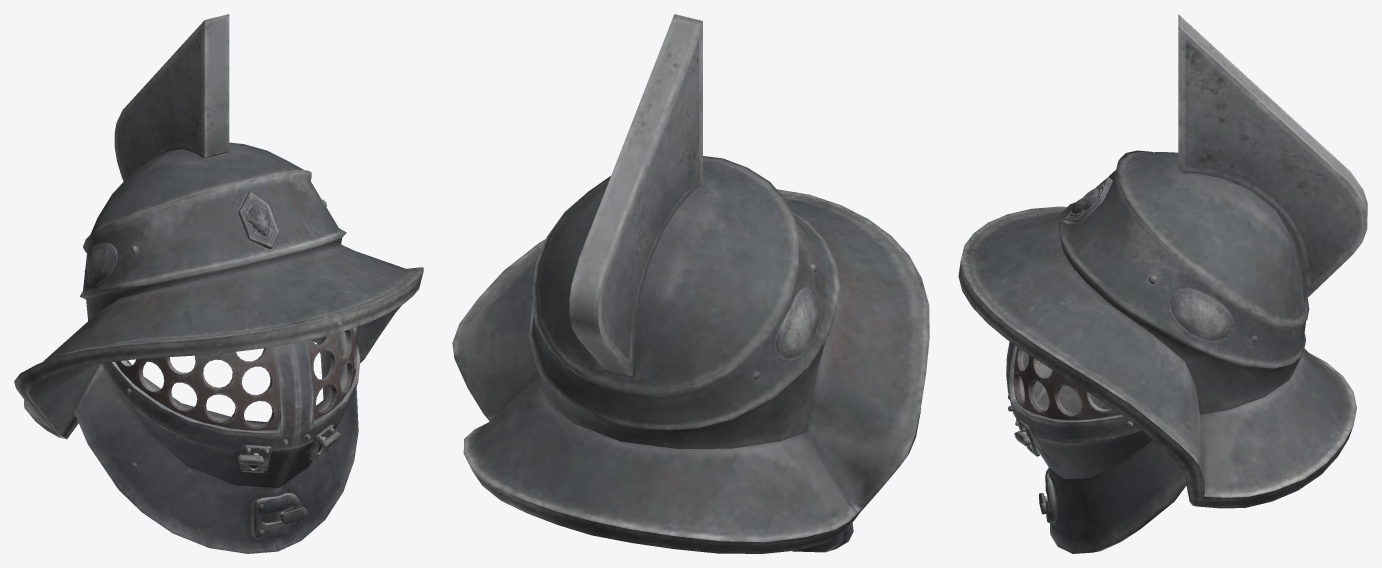
The model's file is gladiator.glb.
The picture shows the model from 3 angles, left to right: view 1: azimuth 30°, elevation 25°; view 2: azimuth 150°, elevation 25°; view 3: azimuth 270°, elevation 25°; orthographic projection. The views are drawn at different scales.
Parts seen in each view (by area): view 1: Helmet_L_01, Helmet_L_02, Helmet_L_03, Helmet_L_09, Helmet_L_04; view 2: Helmet_L_01, Helmet_L_04; view 3: Helmet_L_01, Helmet_L_02, Helmet_L_04, Helmet_L_03.
Part boxes in pixels (x1,y1,x2,y2): Helmet_L_01: [14, 14, 423, 553]; Helmet_L_02: [115, 327, 357, 430]; Helmet_L_03: [238, 190, 279, 249]; Helmet_L_09: [254, 493, 302, 539]; Helmet_L_04: [86, 243, 117, 284]; Helmet_L_01: [452, 14, 929, 553]; Helmet_L_04: [775, 288, 818, 358]; Helmet_L_01: [958, 14, 1367, 553]; Helmet_L_02: [1013, 347, 1121, 420]; Helmet_L_04: [1170, 288, 1234, 340]; Helmet_L_03: [1063, 177, 1112, 223].
Bounding box in the file's own units: 0.4101 × 0.4906 × 0.3537.
Materials: 1 (1 with a texture image).
